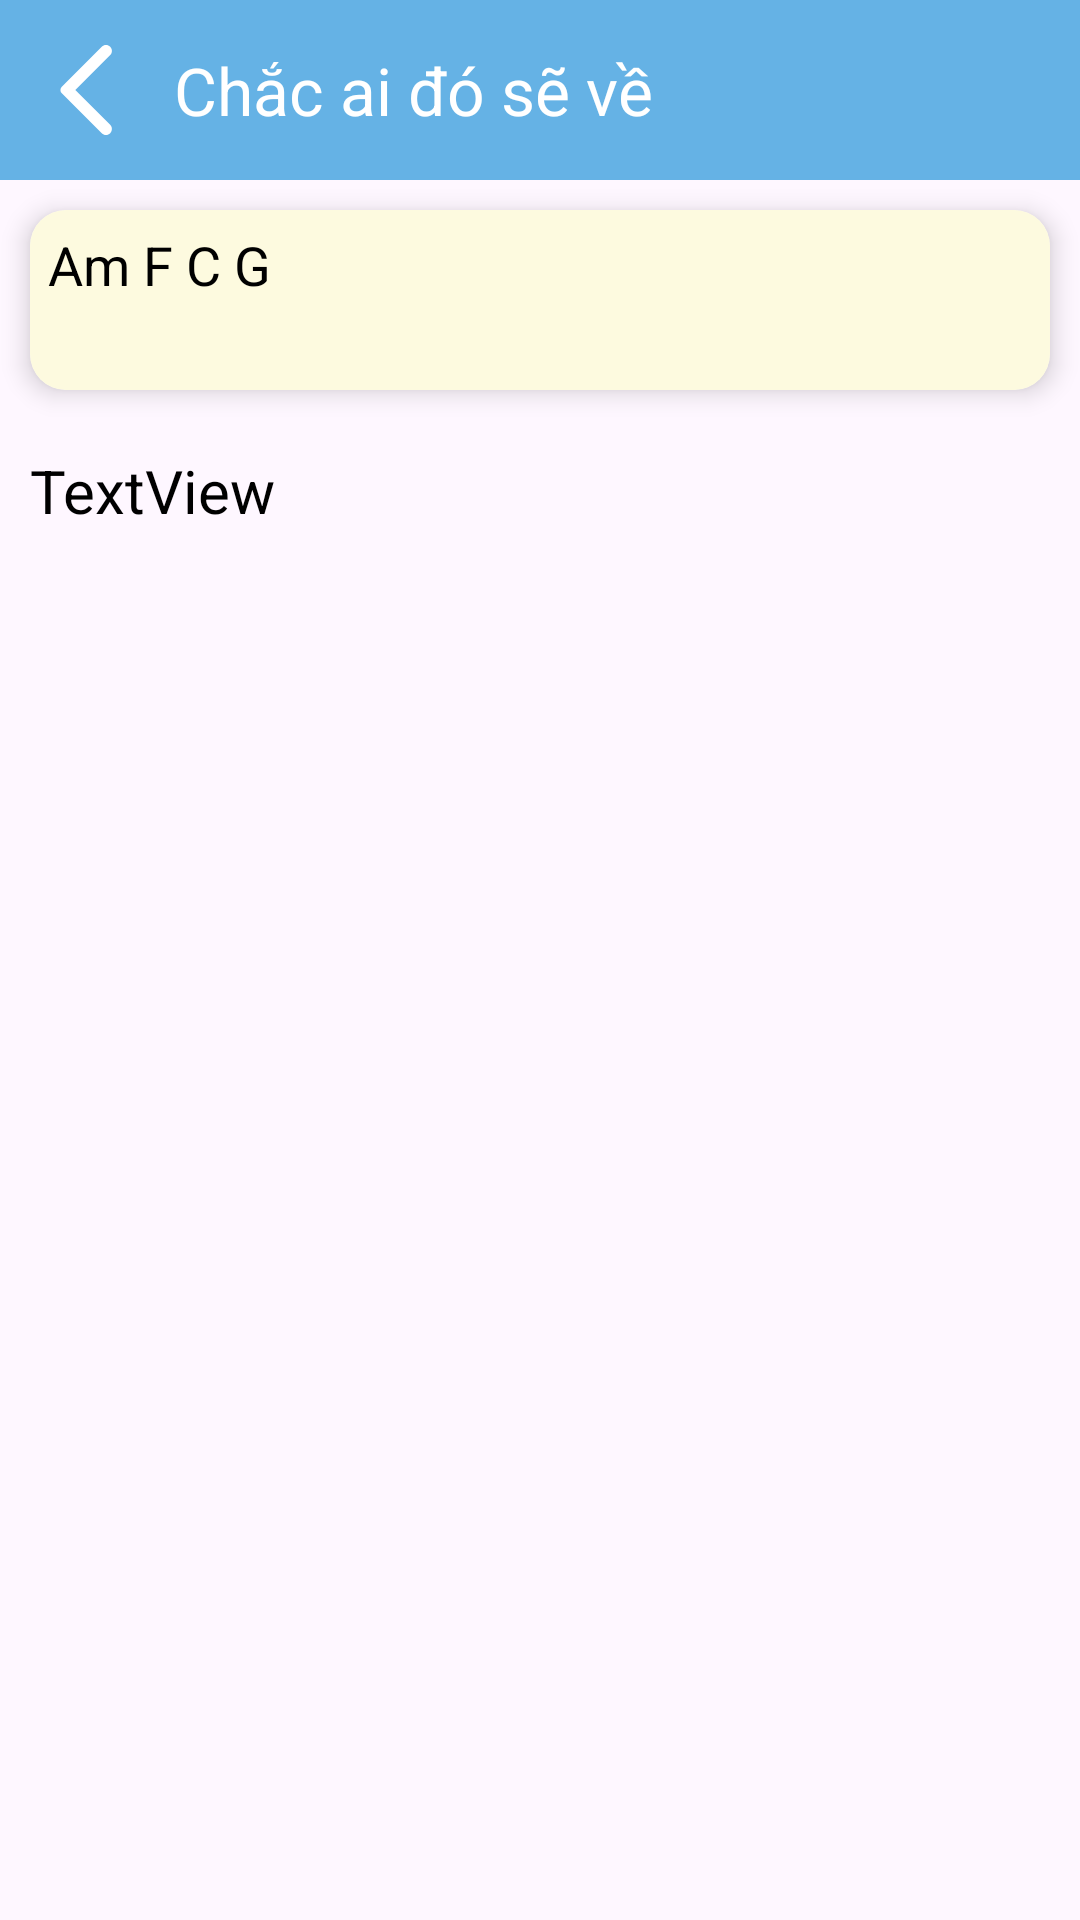

Icons on this 1080×1920 Android screen, each with its box as (x1, y1, x2, y2):
back: (60, 45, 112, 135)
